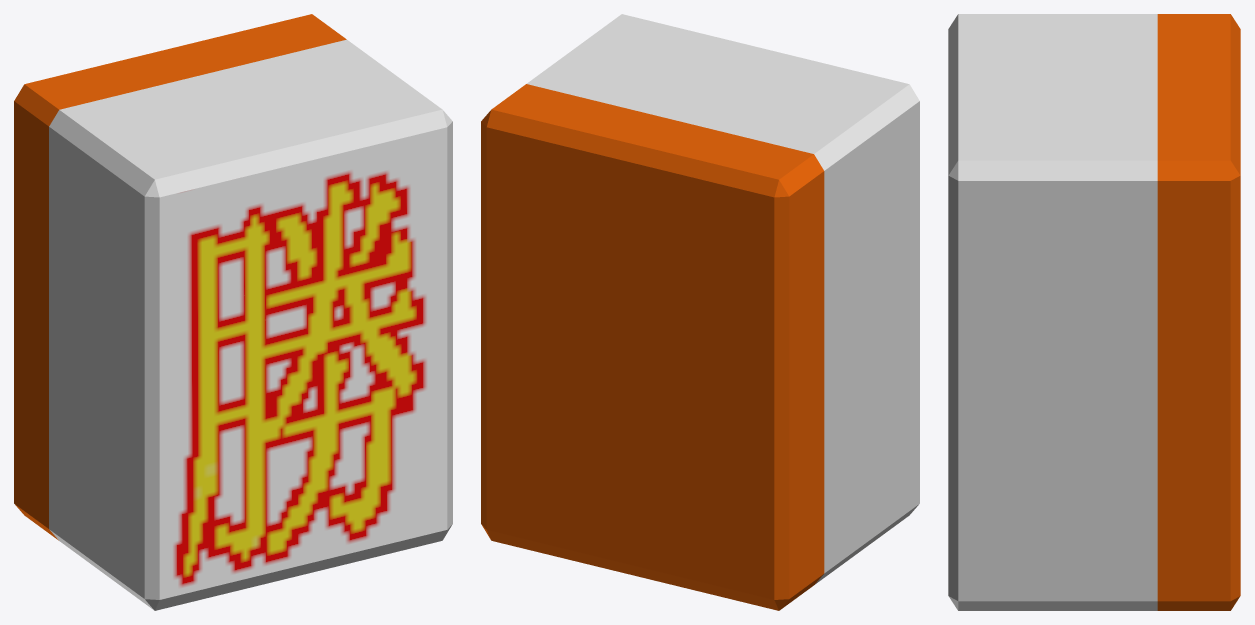
Rendered from Win.gltf.
3 views of the same model, side by side, from view 1: azimuth 30°, elevation 25°; view 2: azimuth 150°, elevation 25°; view 3: azimuth 270°, elevation 25° (orthographic). The views are drawn at different scales.
Parts seen in each view (by area): view 1: Cube; view 2: Cube; view 3: Cube.
Boxes of the visible parts, left/top/right/bottom form: Cube: left=14, top=14, right=452, bottom=610; Cube: left=481, top=14, right=919, bottom=610; Cube: left=948, top=14, right=1240, bottom=610.
Bounding box in the file's own units: 1.95 × 2.6 × 1.53.
3 materials, 1 textured.
